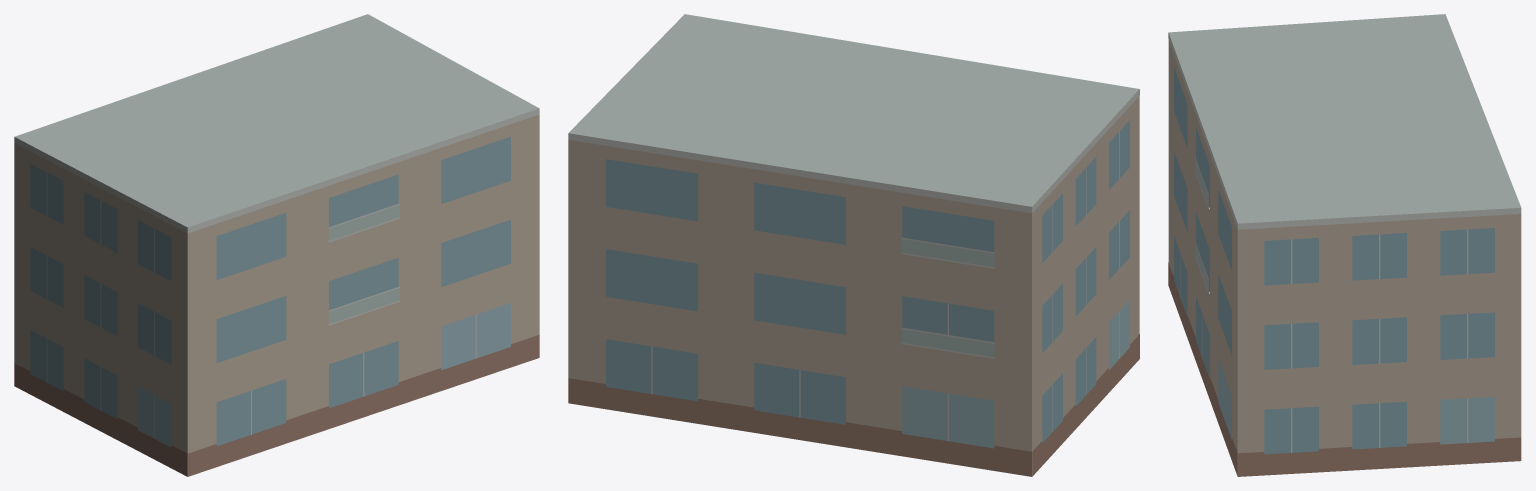
Rendered from survey-upis-32527432.glb.
The picture shows the model from 3 angles, left to right: view 1: azimuth 30°, elevation 25°; view 2: azimuth 150°, elevation 25°; view 3: azimuth 270°, elevation 25°; orthographic projection. The views are drawn at different scales.
Visible parts, largest first — view 1: survey-upis-32527432.tmp; view 2: survey-upis-32527432.tmp; view 3: survey-upis-32527432.tmp.
Part boxes in pixels (x1=…): survey-upis-32527432.tmp: x1=14, y1=14, x2=539, y2=476; survey-upis-32527432.tmp: x1=568, y1=14, x2=1139, y2=476; survey-upis-32527432.tmp: x1=1168, y1=14, x2=1521, y2=476.
Size of the model in its own units: 17.94 by 10.1 by 12.77.
